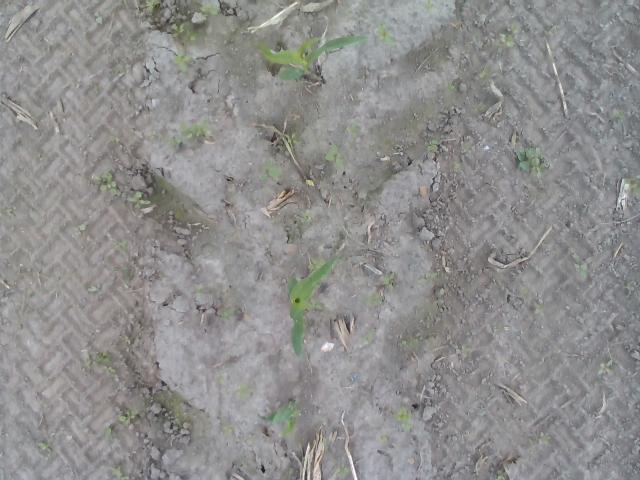Maize: (256, 34, 368, 82), (286, 257, 336, 359), (256, 398, 301, 438)
Weeds: (511, 144, 546, 176), (83, 351, 113, 377), (180, 118, 208, 145), (499, 20, 522, 48), (96, 168, 120, 194), (258, 159, 282, 183), (394, 406, 414, 433), (324, 143, 345, 168), (174, 21, 200, 41), (376, 17, 394, 45), (125, 191, 151, 208), (174, 48, 191, 73), (198, 0, 221, 17), (119, 406, 138, 425), (574, 262, 592, 282), (424, 134, 442, 154), (528, 431, 552, 446), (623, 175, 640, 195), (144, 0, 162, 18), (282, 130, 305, 144), (596, 360, 616, 376), (110, 464, 130, 480), (343, 119, 359, 139), (236, 384, 253, 402), (335, 462, 352, 480), (382, 271, 398, 290), (367, 289, 385, 305), (456, 342, 472, 360), (308, 257, 325, 272), (218, 304, 232, 321), (447, 78, 458, 98), (534, 303, 546, 320), (164, 136, 184, 146), (301, 208, 315, 222), (362, 329, 375, 344), (112, 238, 128, 250), (612, 104, 624, 120), (399, 338, 417, 348), (376, 432, 390, 444), (102, 424, 113, 439), (422, 272, 442, 280), (0, 207, 17, 216), (146, 130, 158, 142), (222, 422, 234, 434), (495, 470, 508, 480), (450, 19, 460, 31), (478, 68, 488, 80), (215, 374, 225, 386), (36, 441, 49, 450), (308, 302, 320, 311), (87, 286, 100, 294), (520, 286, 530, 296), (425, 0, 434, 11), (79, 223, 89, 232), (94, 15, 102, 25), (112, 136, 120, 145), (324, 439, 331, 449), (624, 282, 632, 290), (175, 412, 187, 417), (123, 336, 130, 344), (196, 287, 203, 294)
